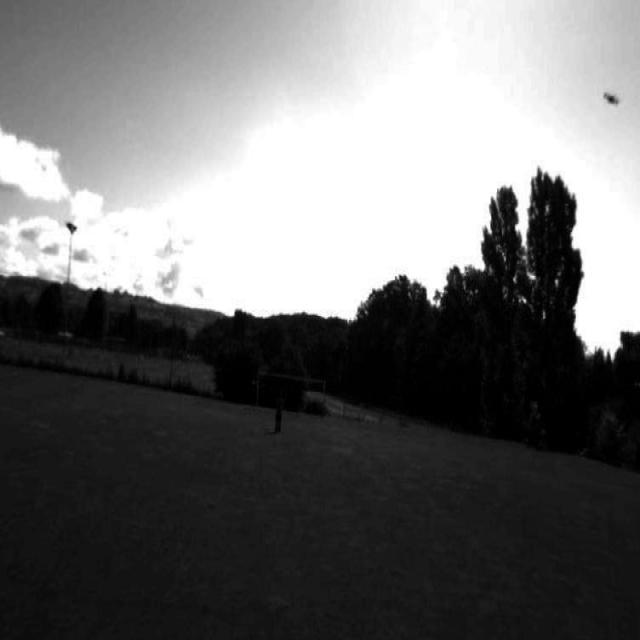drone: (600, 86, 622, 115)
